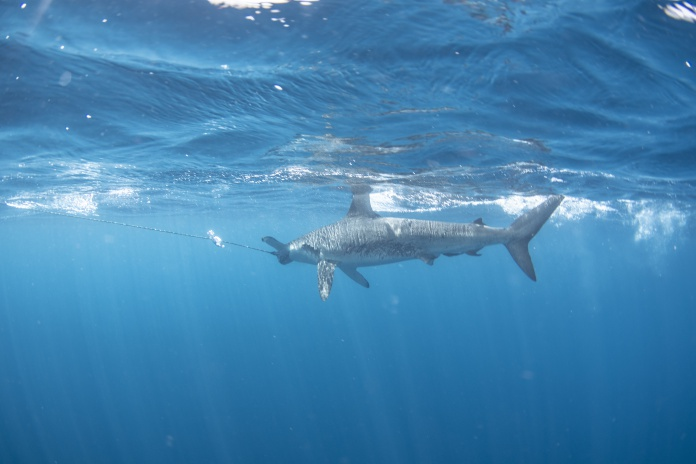Hammer: (238, 170, 583, 306)
